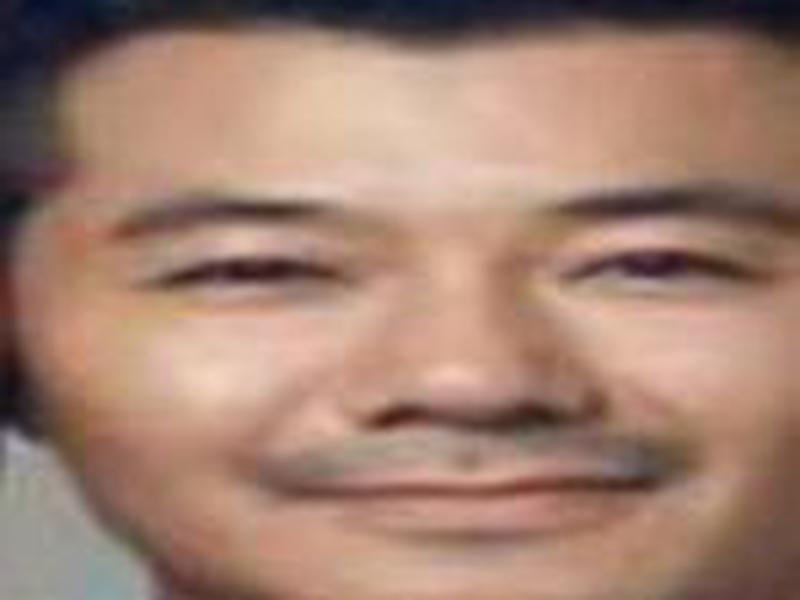without_mask: (33, 33, 797, 585)
